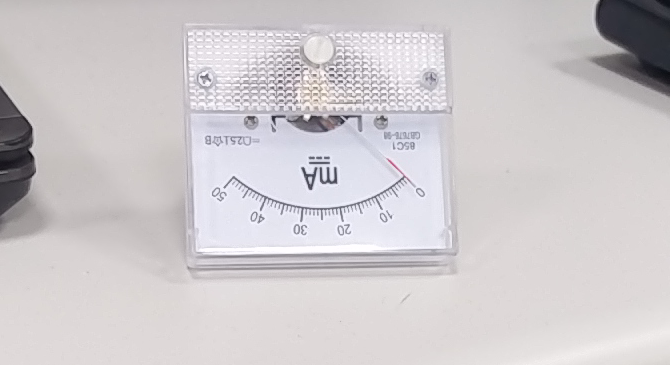MilliAmp_Meter: (188, 113, 456, 261)
